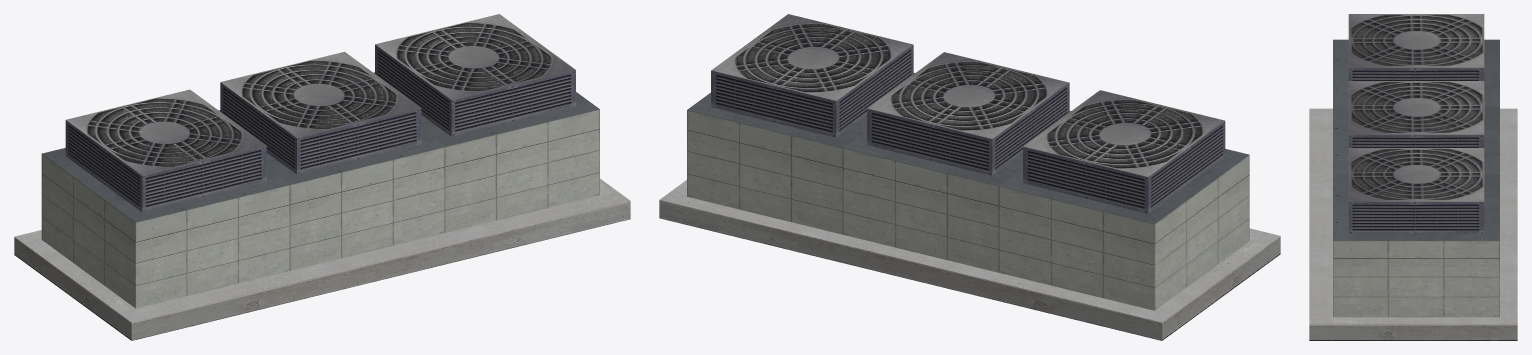
Rendered from roof addon9.FBX.
3 views of the same model, side by side, from view 1: azimuth 30°, elevation 25°; view 2: azimuth 150°, elevation 25°; view 3: azimuth 270°, elevation 25° (orthographic). The views are drawn at different scales.
Parts seen in each view (by area): view 1: roof addon9; view 2: roof addon9; view 3: roof addon9.
Part boxes in pixels (x1=…): roof addon9: x1=14, y1=14, x2=630, y2=340; roof addon9: x1=659, y1=14, x2=1280, y2=340; roof addon9: x1=1309, y1=14, x2=1517, y2=340.
Bounding box in the file's own units: 15.31 × 4.13 × 6.25.
